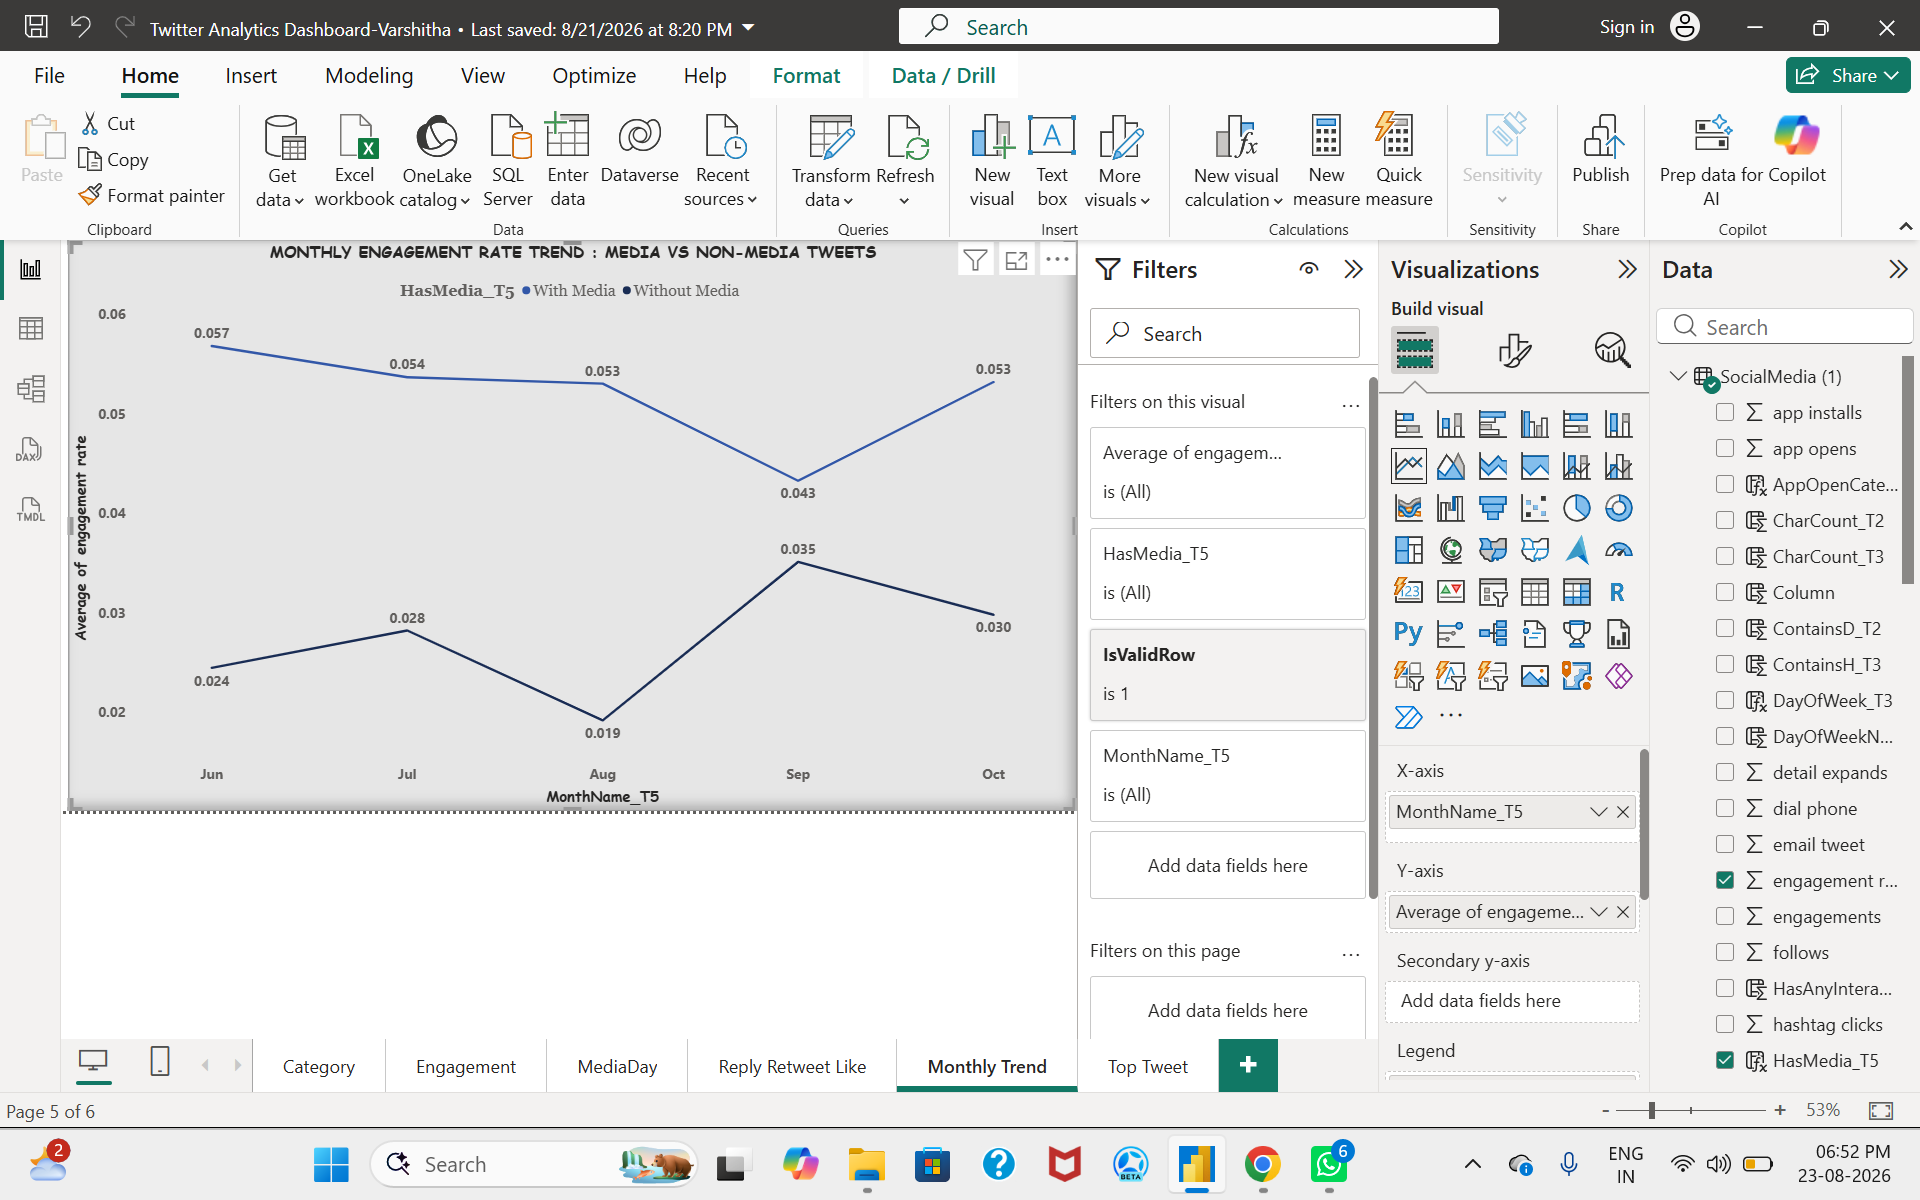

The page's visual inventory and layout, read from the dashboard file:
{"tool":"powerbi","page":{"name":"Monthly Trend","canvas":[1280,720],"ordinal":4},"visuals":[{"type":"lineChart","title":"MONTHLY ENGAGEMENT RATE TREND : MEDIA VS NON-MEDIA TWEETS","fields":{"Category":["SocialMedia (1).MonthName_T5"],"Series":["SocialMedia (1).HasMedia_T5"],"Y":["Avg(SocialMedia (1).engagement rate)"]},"box":[9.4,0,1269.9,720],"z":0}]}

Visuals, with their boxes on the page's 1280x720 design canvas (x1, y1, x2, y2). These are canvas units, not pixel positions in the 1920x1200 screenshot, which may show the page scaled, cropped or inside an application window:
"MONTHLY ENGAGEMENT RATE TREND : MEDIA VS NON-MEDIA TWEETS" lineChart: <bbox>9, 0, 1279, 720</bbox>
